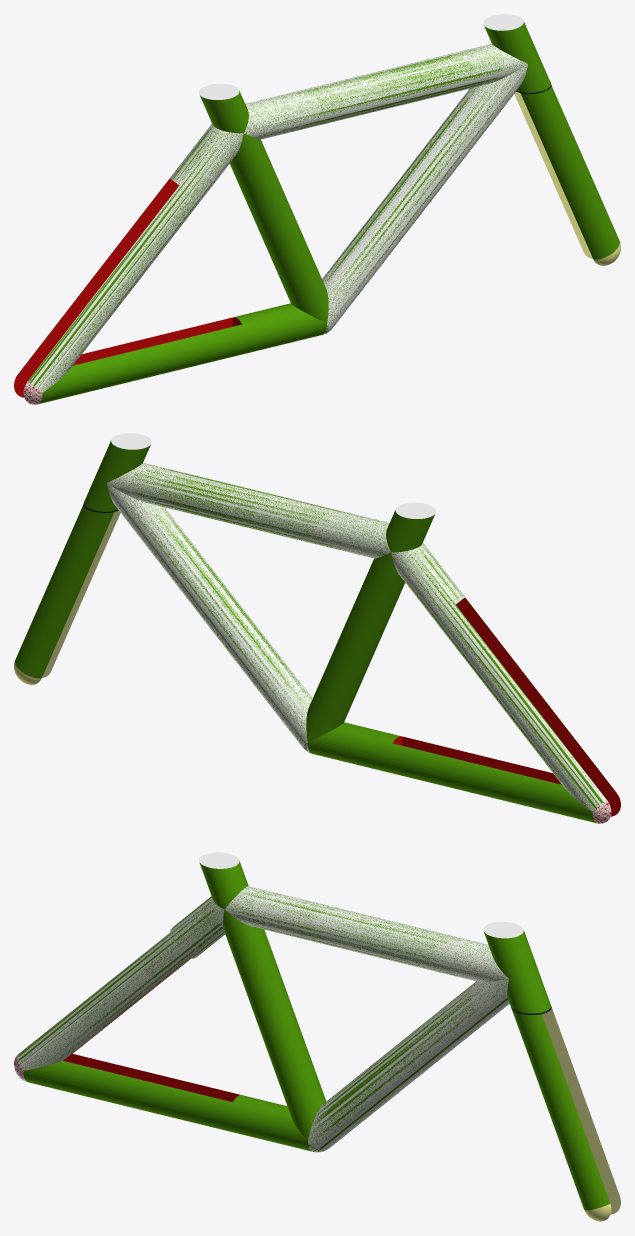
3 views of the same model, one above another, from view 1: azimuth 30°, elevation 25°; view 2: azimuth 150°, elevation 25°; view 3: azimuth 330°, elevation 25° (orthographic).
Visible parts, largest first — view 1: SketchUp (×6); view 2: SketchUp (×6); view 3: SketchUp (×6).
Part boxes in pixels (x1,y1,x2,y2): SketchUp (×6): (14, 14, 619, 404); SketchUp (×6): (15, 433, 620, 823); SketchUp (×6): (14, 852, 620, 1214).
Bounding box in the file's own units: 49.63 × 2.76 × 21.11.
